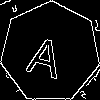A: (25, 27, 69, 79)
